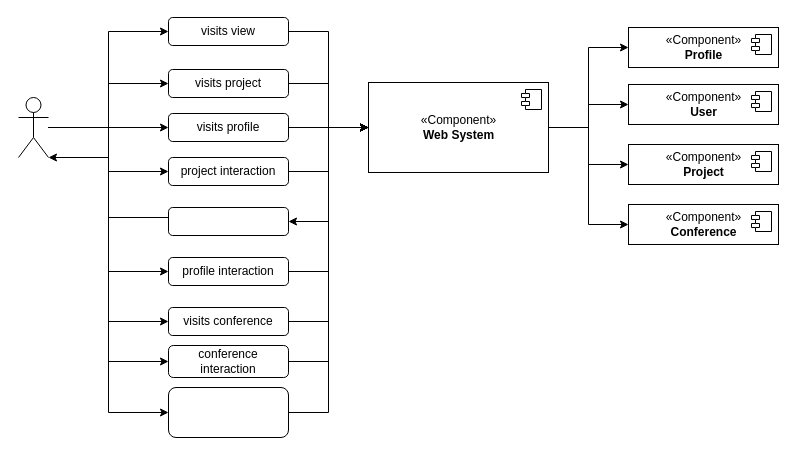
Some shapes in this 796 by 455 pixel diagram are drawn without their labels. Here are the shapes that lost their labels. From the top down, the box of each, then its label:
(18, 96, 48, 158): Guest
(168, 206, 288, 236): interaction rejection
(168, 386, 288, 438): review conference details
